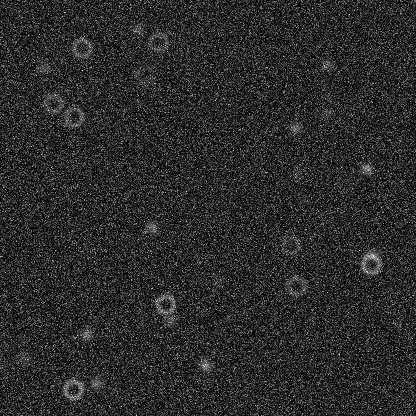Ring: (278, 232, 302, 256), (69, 35, 93, 59), (284, 273, 308, 297), (146, 29, 170, 53), (61, 104, 85, 128), (153, 291, 177, 315), (41, 91, 65, 115), (132, 63, 156, 87), (358, 252, 382, 276), (61, 377, 85, 401)
Spot: (88, 374, 104, 390), (208, 272, 224, 288), (319, 85, 335, 101), (318, 104, 334, 120), (388, 314, 404, 330), (289, 165, 305, 181), (287, 120, 303, 136), (162, 312, 178, 328), (364, 245, 380, 261), (358, 160, 374, 176), (16, 349, 32, 365), (35, 60, 51, 76), (78, 326, 94, 342), (196, 357, 212, 373), (295, 193, 311, 209), (318, 56, 334, 72), (144, 219, 160, 235), (129, 21, 145, 37)
